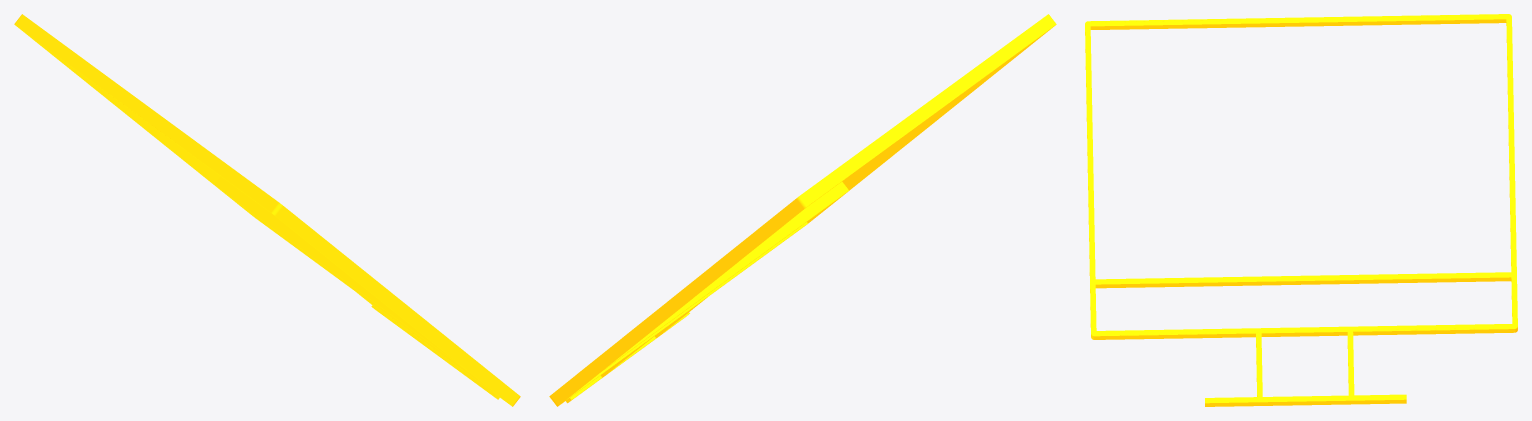
Rendered from podium_image_selected.glb.
3 renders of one model, left to right at view 1: azimuth 30°, elevation 25°; view 2: azimuth 150°, elevation 25°; view 3: azimuth 270°, elevation 25°, orthographic. The views are drawn at different scales.
Visible parts, largest first — view 1: Buttons.001; view 2: Buttons.001; view 3: Buttons.001.
Part boxes in pixels (x1,y1,x2,y2): Buttons.001: (14,14,520,406); Buttons.001: (549,14,1056,406); Buttons.001: (1085,14,1517,406).
Size of the model in its own units: 0.0328 by 0.0328 by 0.0473.
